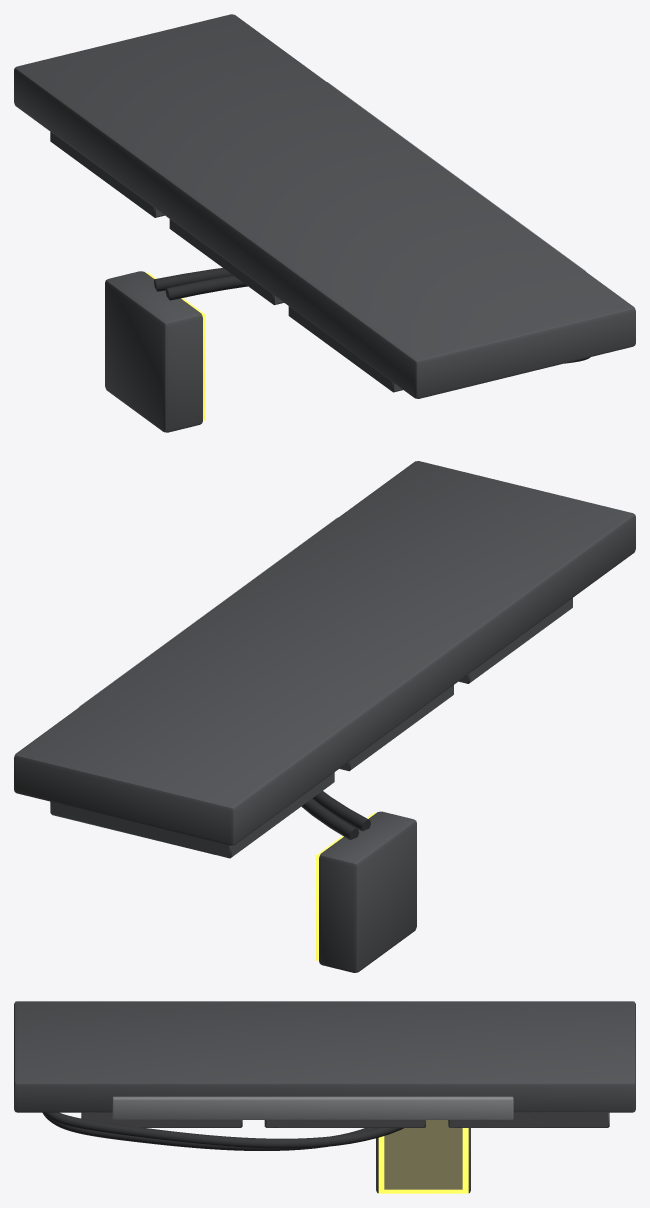
File: cooler_hydroshift_360.glb
The picture shows the model from 3 angles, top to bottom: view 1: azimuth 30°, elevation 25°; view 2: azimuth 150°, elevation 25°; view 3: azimuth 270°, elevation 25°; orthographic projection. The views are drawn at different scales.
Visible parts, largest first — view 1: Cooler_HydroShift360, HS_Fan_0_Frame, HS_Fan_1_Frame, HS_Fan_2_Frame; view 2: Cooler_HydroShift360, HS_Fan_2_Frame, HS_Fan_1_Frame, HS_Fan_0_Frame; view 3: Cooler_HydroShift360, LCD_HS_IPSScreen, HS_Fan_2_Frame, HS_Fan_1_Frame, HS_Fan_0_Frame, RGB_HS_PumpTrim.
Boxes of the visible parts, x1,y1,x2,y2 form: Cooler_HydroShift360: (14, 14, 635, 432); HS_Fan_0_Frame: (288, 306, 402, 392); HS_Fan_1_Frame: (169, 219, 283, 305); HS_Fan_2_Frame: (50, 132, 164, 217); Cooler_HydroShift360: (14, 461, 635, 972); HS_Fan_2_Frame: (50, 772, 334, 858); HS_Fan_1_Frame: (339, 685, 453, 771); HS_Fan_0_Frame: (459, 598, 572, 683); Cooler_HydroShift360: (14, 1001, 635, 1193); LCD_HS_IPSScreen: (384, 1120, 462, 1189); HS_Fan_2_Frame: (448, 1112, 609, 1127); HS_Fan_1_Frame: (264, 1120, 425, 1127); HS_Fan_0_Frame: (81, 1112, 242, 1127); RGB_HS_PumpTrim: (378, 1128, 468, 1193).
Size of the model in its own units: 1.32 by 1.21 by 3.66.
